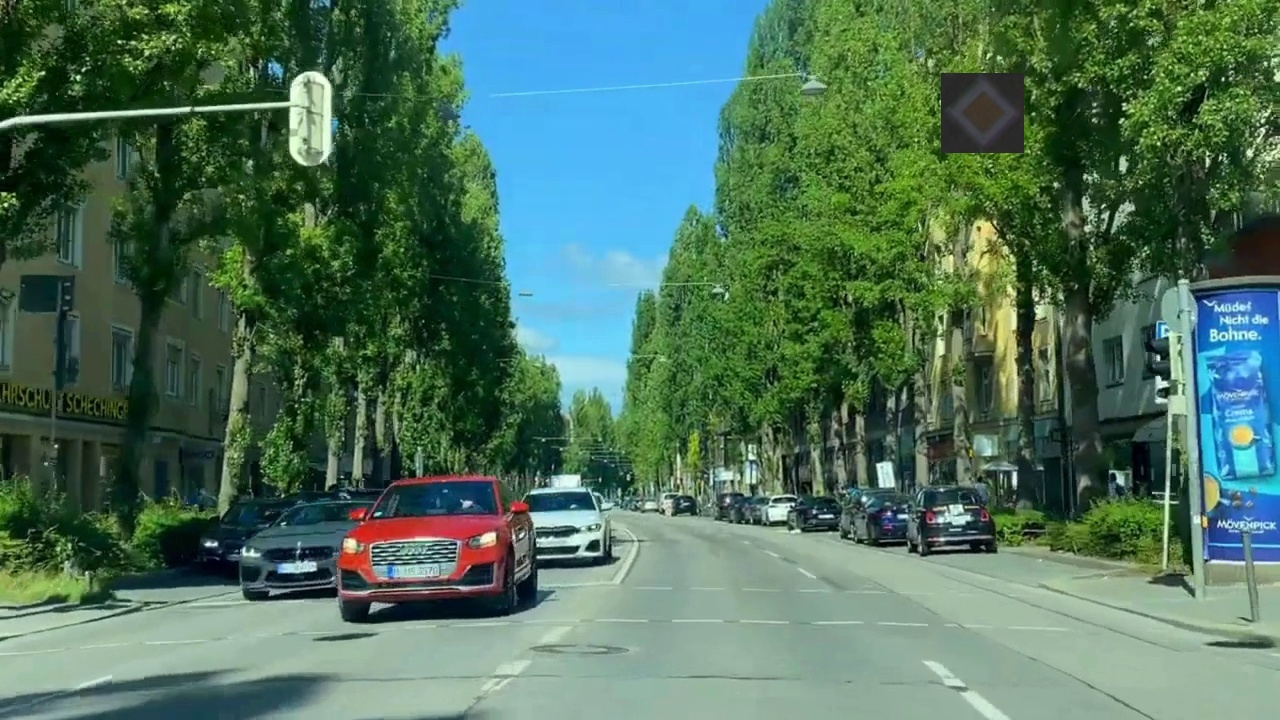Priority road: (941, 73, 1024, 153)
